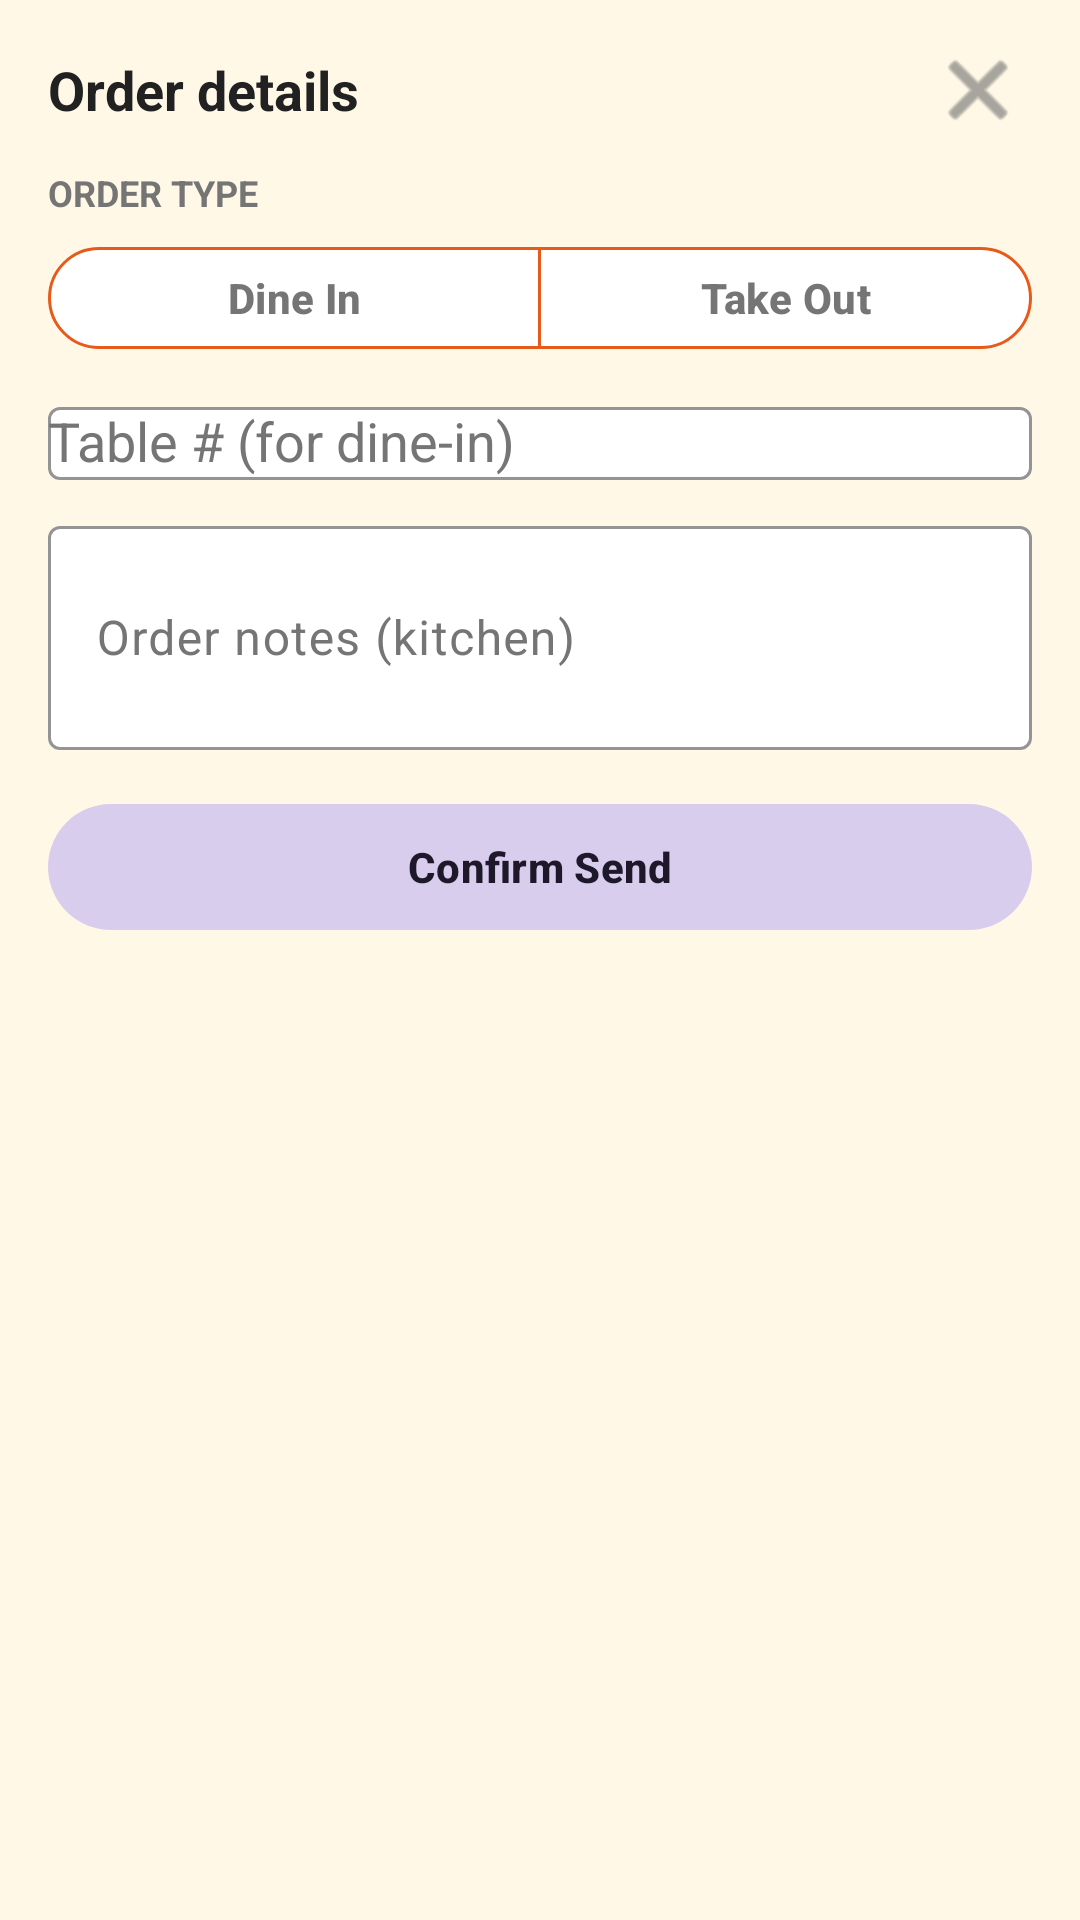

Where icons sit on this 1080x1920 app screen, as (x1,y1,x2,y2):
Close: (948,60,1008,120)
